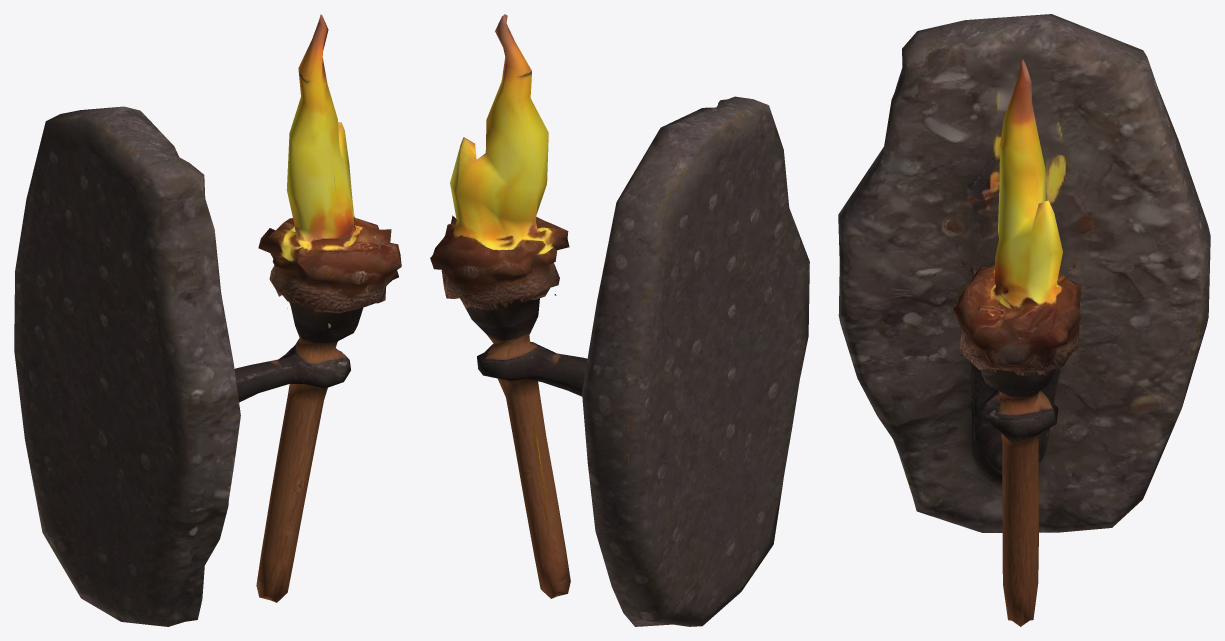
Rendered from pochodnia.glb.
3 views of the same model, side by side, from view 1: azimuth 30°, elevation 25°; view 2: azimuth 150°, elevation 25°; view 3: azimuth 270°, elevation 25° (orthographic). The views are drawn at different scales.
Visible parts, largest first — view 1: tripo_node_c8da802c-d598-47f5-b5fc-90f59b152a2f; view 2: tripo_node_c8da802c-d598-47f5-b5fc-90f59b152a2f; view 3: tripo_node_c8da802c-d598-47f5-b5fc-90f59b152a2f.
Part boxes in pixels (x1,y1,x2,y2): tripo_node_c8da802c-d598-47f5-b5fc-90f59b152a2f: [14, 14, 401, 626]; tripo_node_c8da802c-d598-47f5-b5fc-90f59b152a2f: [430, 14, 809, 626]; tripo_node_c8da802c-d598-47f5-b5fc-90f59b152a2f: [838, 14, 1210, 626].
Bounding box in the file's own units: 0.5264 × 0.9935 × 0.5697.
Materials: 1 (1 with a texture image).
